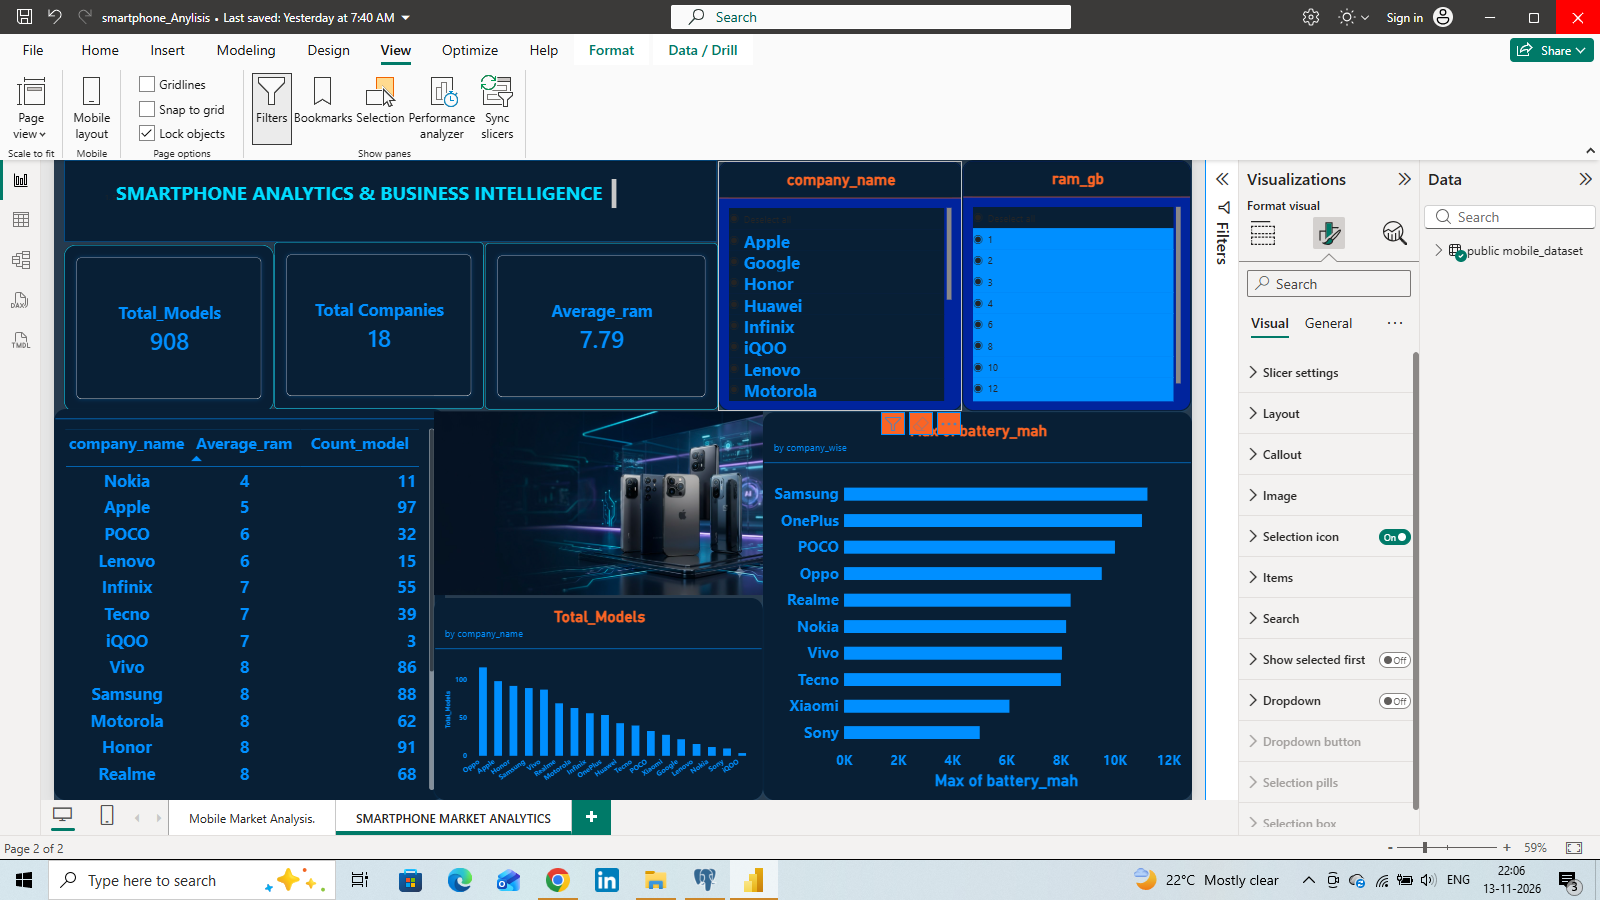

This screenshot's page, from the dashboard's own definition file:
{"tool":"powerbi","page":{"name":"SMARTPHONE MARKET ANALYTICS","canvas":[1920,1080],"ordinal":1},"visuals":[{"type":"shape","box":[16.9,32.1,1101.9,86.1],"z":500},{"type":"cardVisual","fields":{"Data":["public mobile_dataset.Total Models"]},"box":[16.9,143.4,354.4,281.8],"z":1000},{"type":"cardVisual","fields":{"Data":["public mobile_dataset.Total Companies"]},"box":[371.2,143.4,354.4,276.8],"z":2000},{"type":"cardVisual","fields":{"Data":["public mobile_dataset.Average_ram"]},"box":[726.7,140.7,393.3,281.4],"z":3000},{"type":"tableEx","fields":{"Values":["public mobile_dataset.company_name","public mobile_dataset.Average_ram","public mobile_dataset.model_name"]},"box":[0,424.1,653.5,655.4],"z":4000},{"type":"clusteredBarChart","fields":{"Category":["public mobile_dataset.company_name"],"Y":["Max(public mobile_dataset.battery_mah)"]},"box":[1197.1,424.1,722.9,655.4],"z":5000},{"type":"listSlicer","fields":{"Values":["public mobile_dataset.company_name"]},"box":[1120,1,412.5,422.2],"z":6000},{"type":"listSlicer","fields":{"Values":["public mobile_dataset.ram_gb"]},"box":[1532.5,0,387.5,424.1],"z":7000},{"type":"image","box":[653.5,420.2,543.6,318.1],"z":8000},{"type":"treemap","fields":{"Group":["public mobile_dataset.company_name"],"Values":["public mobile_dataset.Total_Models"]},"box":[653.5,738.3,543.6,341.2],"z":9000},{"type":"textbox","box":[102.5,63.8,892.5,77.5],"z":10000}]}

Visuals, with their boxes on the page's 1920x1080 design canvas (x1, y1, x2, y2). These are canvas units, not pixel positions in the 1600x900 screenshot, which may show the page scaled, cropped or inside an application window:
shape: {"x1": 17, "y1": 32, "x2": 1119, "y2": 118}
cardVisual - public mobile_dataset.Total Models: {"x1": 17, "y1": 143, "x2": 371, "y2": 425}
cardVisual - public mobile_dataset.Total Companies: {"x1": 371, "y1": 143, "x2": 726, "y2": 420}
cardVisual - public mobile_dataset.Average_ram: {"x1": 727, "y1": 141, "x2": 1120, "y2": 422}
tableEx - public mobile_dataset.company_name x public mobile_dataset.Average_ram: {"x1": 0, "y1": 424, "x2": 654, "y2": 1080}
clusteredBarChart - public mobile_dataset.company_name x Max(public mobile_dataset.battery_mah): {"x1": 1197, "y1": 424, "x2": 1920, "y2": 1080}
listSlicer - public mobile_dataset.company_name: {"x1": 1120, "y1": 1, "x2": 1532, "y2": 423}
listSlicer - public mobile_dataset.ram_gb: {"x1": 1532, "y1": 0, "x2": 1920, "y2": 424}
image: {"x1": 654, "y1": 420, "x2": 1197, "y2": 738}
treemap - public mobile_dataset.company_name x public mobile_dataset.Total_Models: {"x1": 654, "y1": 738, "x2": 1197, "y2": 1080}
textbox: {"x1": 102, "y1": 64, "x2": 995, "y2": 141}
